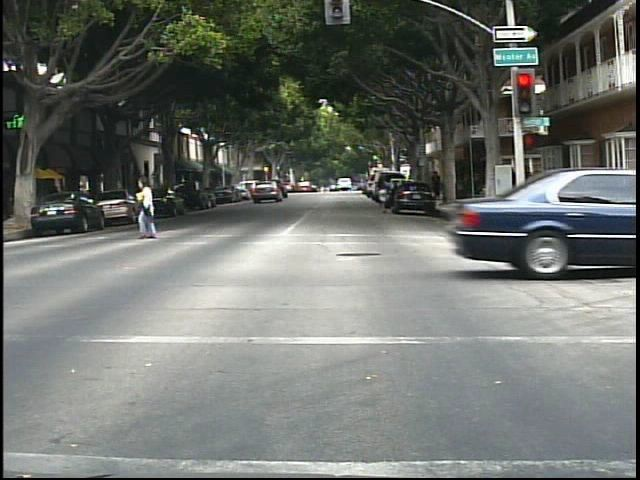person: (130, 173, 167, 242), (371, 172, 396, 217), (428, 165, 448, 203)
